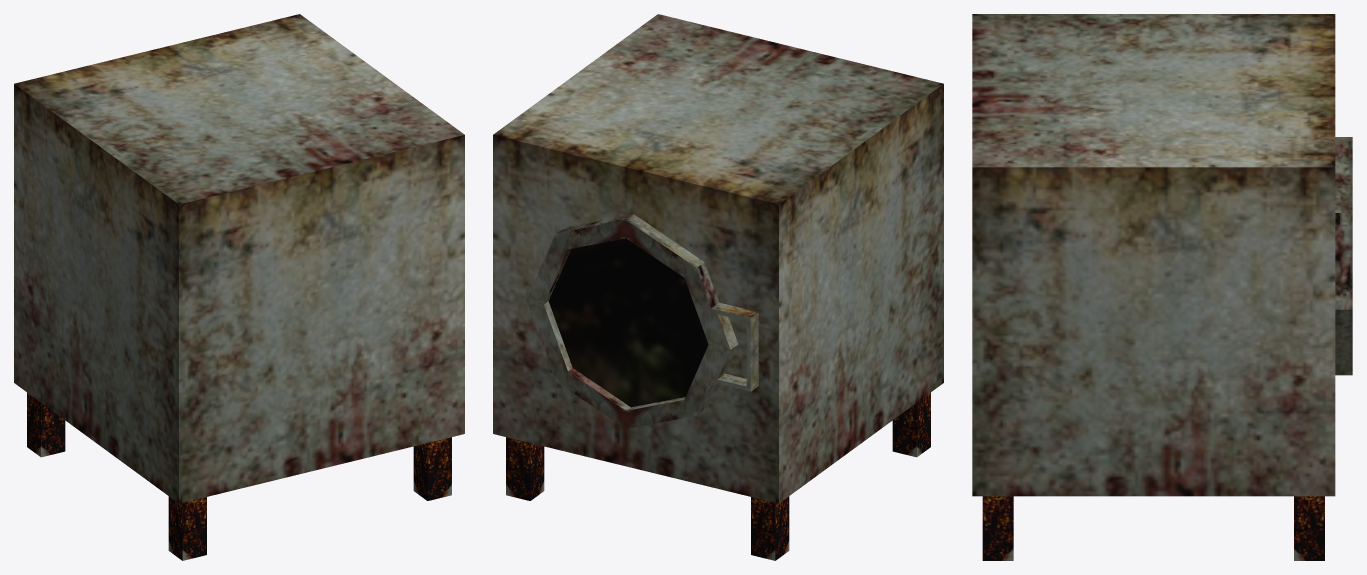
The model's file is washing_machine.glb.
3 views of the same model, side by side, from view 1: azimuth 30°, elevation 25°; view 2: azimuth 150°, elevation 25°; view 3: azimuth 270°, elevation 25° (orthographic). The views are drawn at different scales.
Parts seen in each view (by area): view 1: Cube.003, Cube.005; view 2: Cube.003, Cube.004, Cube.005; view 3: Cube.003, Cube.004, Cube.005.
Boxes of the visible parts, x1,y1,x2,y2 form: Cube.003: [14, 14, 464, 503]; Cube.005: [27, 392, 451, 560]; Cube.003: [493, 14, 943, 503]; Cube.004: [526, 214, 758, 428]; Cube.005: [506, 392, 930, 560]; Cube.003: [972, 14, 1335, 496]; Cube.004: [1335, 137, 1352, 375]; Cube.005: [982, 496, 1324, 560].
Bounding box in the file's own units: 2 × 2.42 × 2.1.
Materials: 1 (1 with a texture image).
